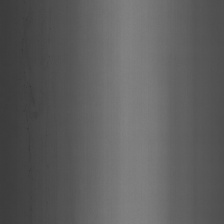inclusion: (20, 43, 34, 95), (21, 106, 33, 137)
